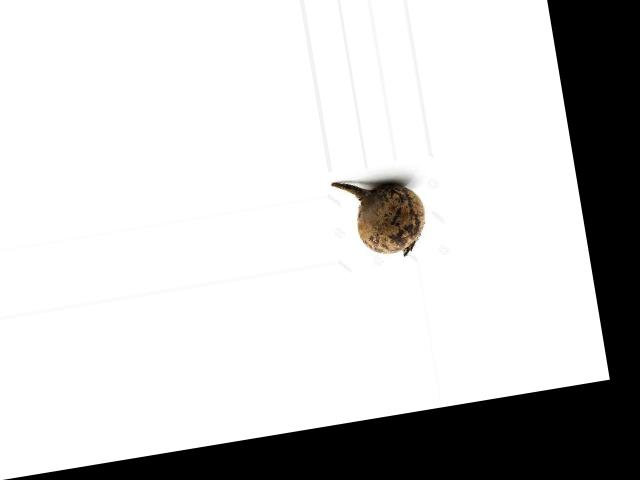beet: (331, 168, 431, 265)
